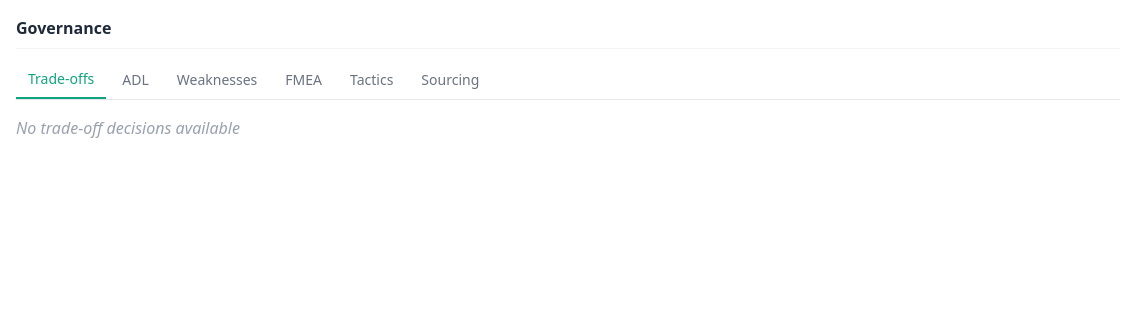
Test: GovernanceView › switchesToADLTab
This screenshot has width=1137, height=321.
Click the button with test id "tab-adl".
click(136, 80)  # box [110, 61, 161, 99]
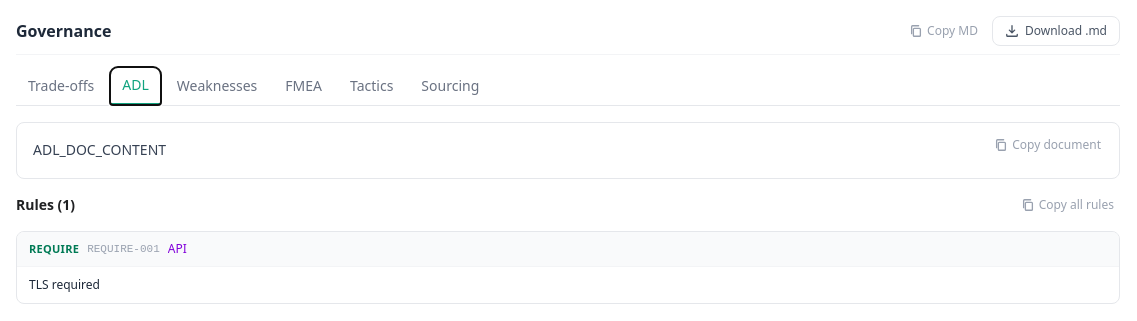
Now the element with test id "panel-adl" is shown, box [16, 122, 1120, 304]
Now the heading "Rules (1)" is shown, box [16, 195, 75, 215]
Now the text "REQUIRE" is shown, box [29, 240, 79, 257]
